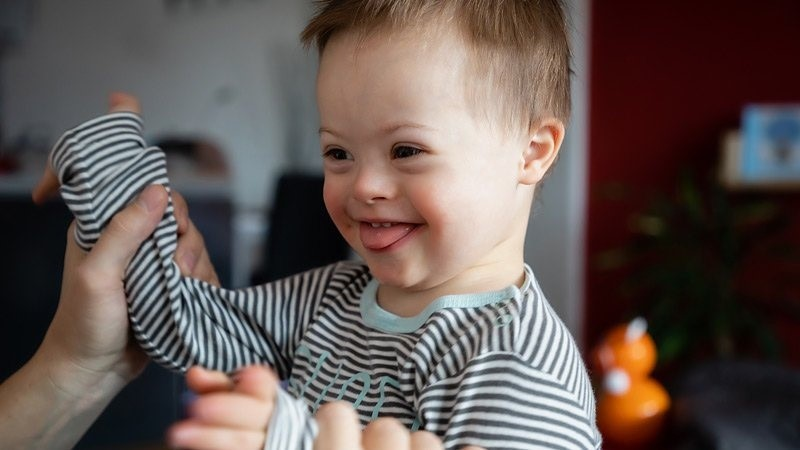face_no_mask: (313, 3, 568, 291)
